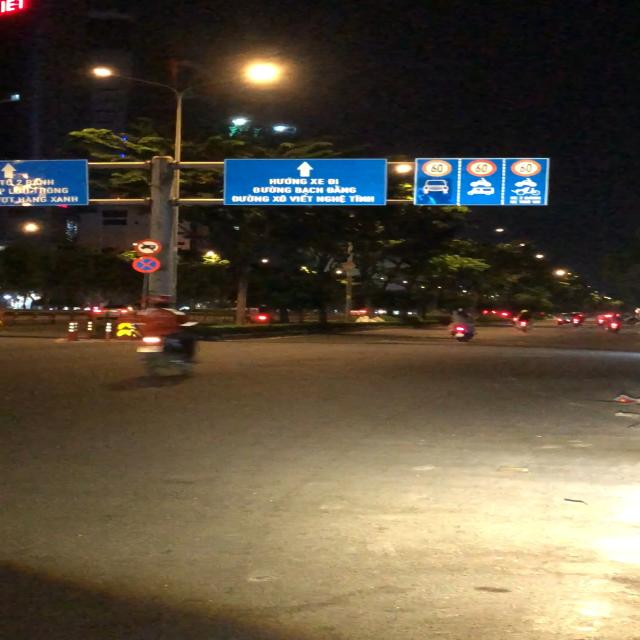Bien bao cam dung xe va do xe: (130, 256, 162, 273)
Bien bao cam xe oto tai: (132, 239, 166, 254)
Bien bao toc do toi da cho phep: (509, 158, 541, 178), (466, 159, 496, 178), (421, 160, 451, 178)
